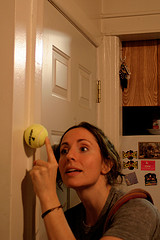tennis ball: (23, 124, 49, 149)
